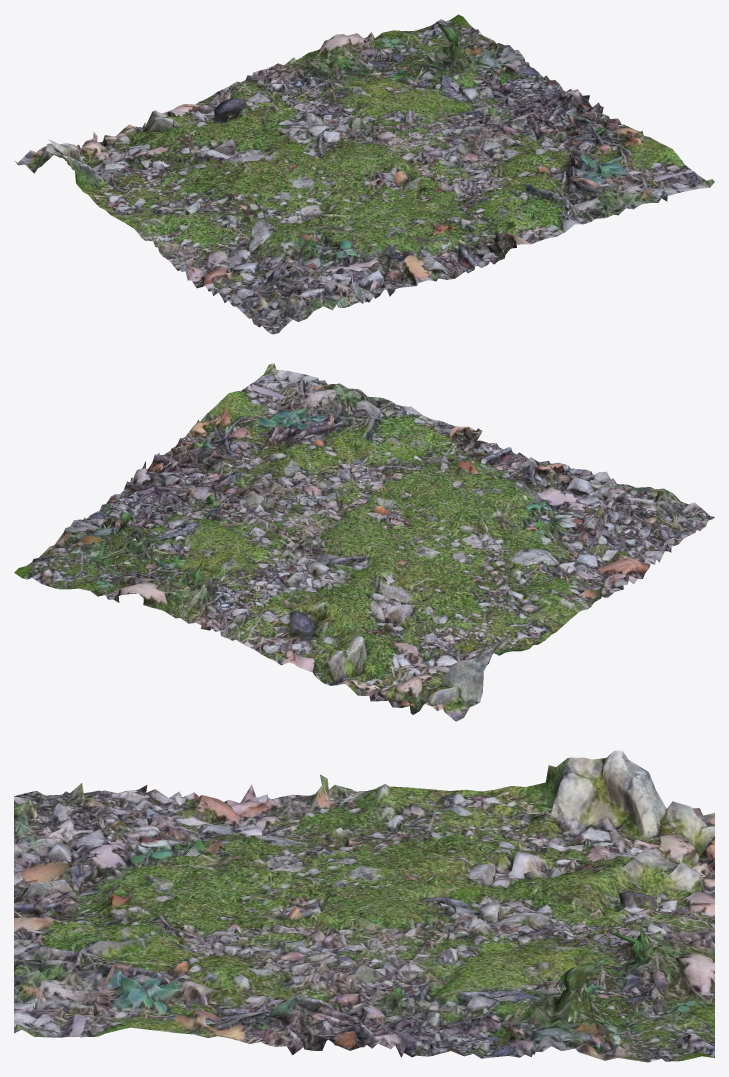
3 renders of one model, top to bottom at view 1: azimuth 30°, elevation 25°; view 2: azimuth 150°, elevation 25°; view 3: azimuth 270°, elevation 25°, orthographic. The views are drawn at different scales.
Parts seen in each view (by area): view 1: ground_moss_1-10k; view 2: ground_moss_1-10k; view 3: ground_moss_1-10k.
Boxes of the visible parts, x1,y1,x2,y2 form: ground_moss_1-10k: [15, 14, 714, 334]; ground_moss_1-10k: [14, 363, 714, 721]; ground_moss_1-10k: [14, 750, 714, 1062].
Size of the model in its own units: 0.9588 by 0.1768 by 0.9588.
Materials: 1 (1 with a texture image).
